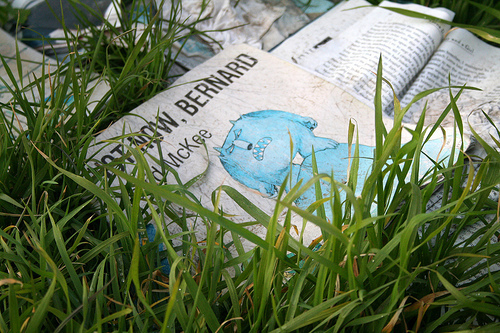litter: (76, 41, 500, 298), (102, 1, 481, 40)
